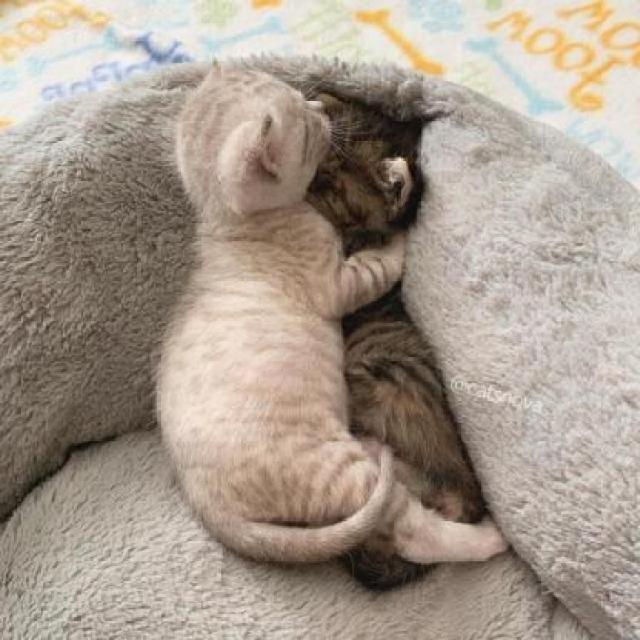cat: (168, 64, 364, 562), (305, 92, 460, 583)
